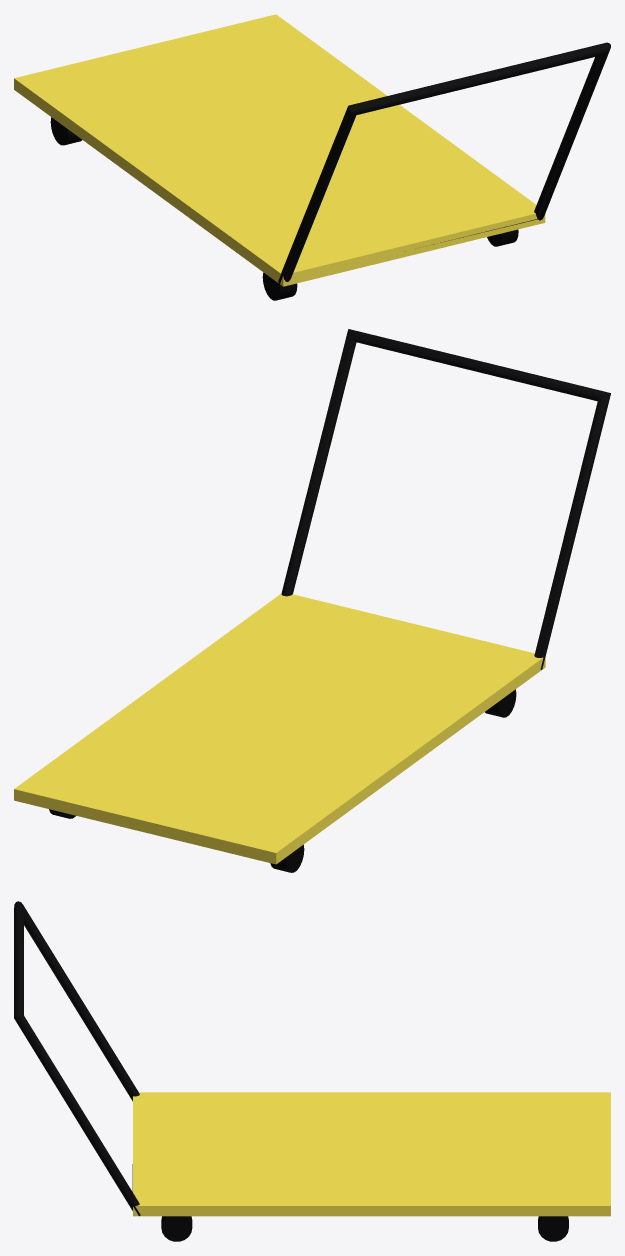
Rendered from Cart.FBX.
3 views of the same model, one above another, from view 1: azimuth 30°, elevation 25°; view 2: azimuth 150°, elevation 25°; view 3: azimuth 270°, elevation 25° (orthographic). The views are drawn at different scales.
Visible parts, largest first — view 1: Cart; view 2: Cart; view 3: Cart.
Part boxes in pixels (<box>): Cart: <box>14,14,610,300</box>; Cart: <box>14,329,610,872</box>; Cart: <box>14,901,610,1241</box>.
Size of the model in its own units: 21.44 by 20.37 by 47.53.
